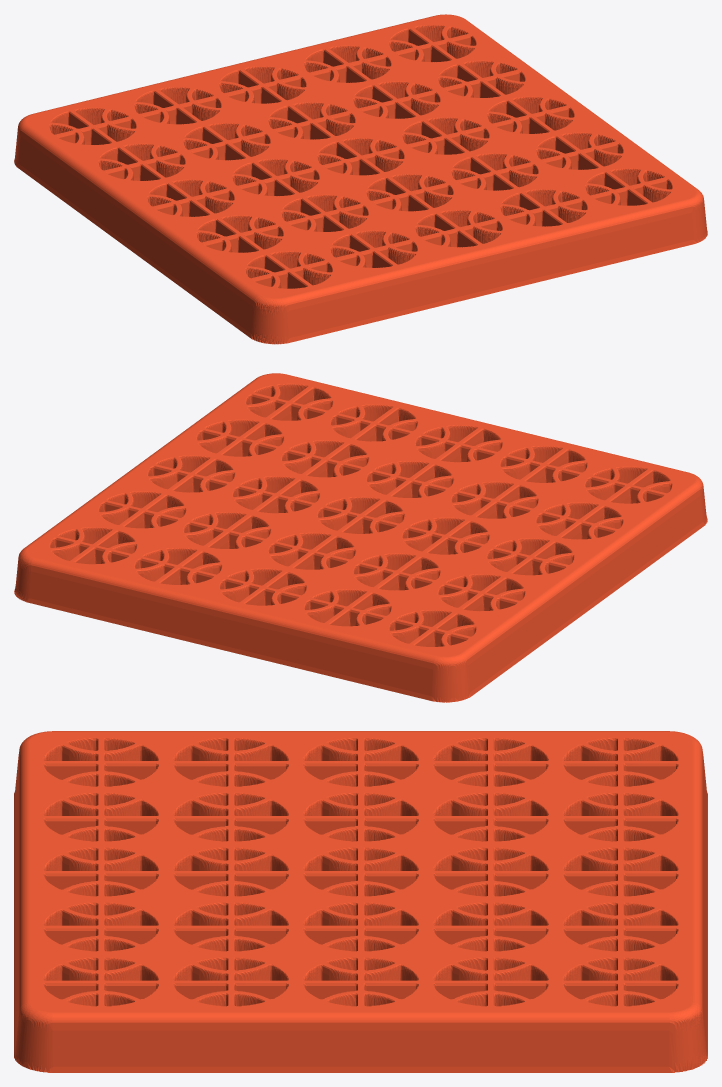
The model's file is mold.glb.
The picture shows the model from 3 angles, top to bottom: view 1: azimuth 30°, elevation 25°; view 2: azimuth 150°, elevation 25°; view 3: azimuth 270°, elevation 25°; orthographic projection. The views are drawn at different scales.
Visible parts, largest first — view 1: geometry_0; view 2: geometry_0; view 3: geometry_0.
Boxes of the visible parts, x1=… form: geometry_0: x1=14, y1=14, x2=707, y2=344; geometry_0: x1=14, y1=373, x2=707, y2=702; geometry_0: x1=14, y1=731, x2=707, y2=1072.
Size of the model in its own units: 0.1584 by 0.0136 by 0.1584.
